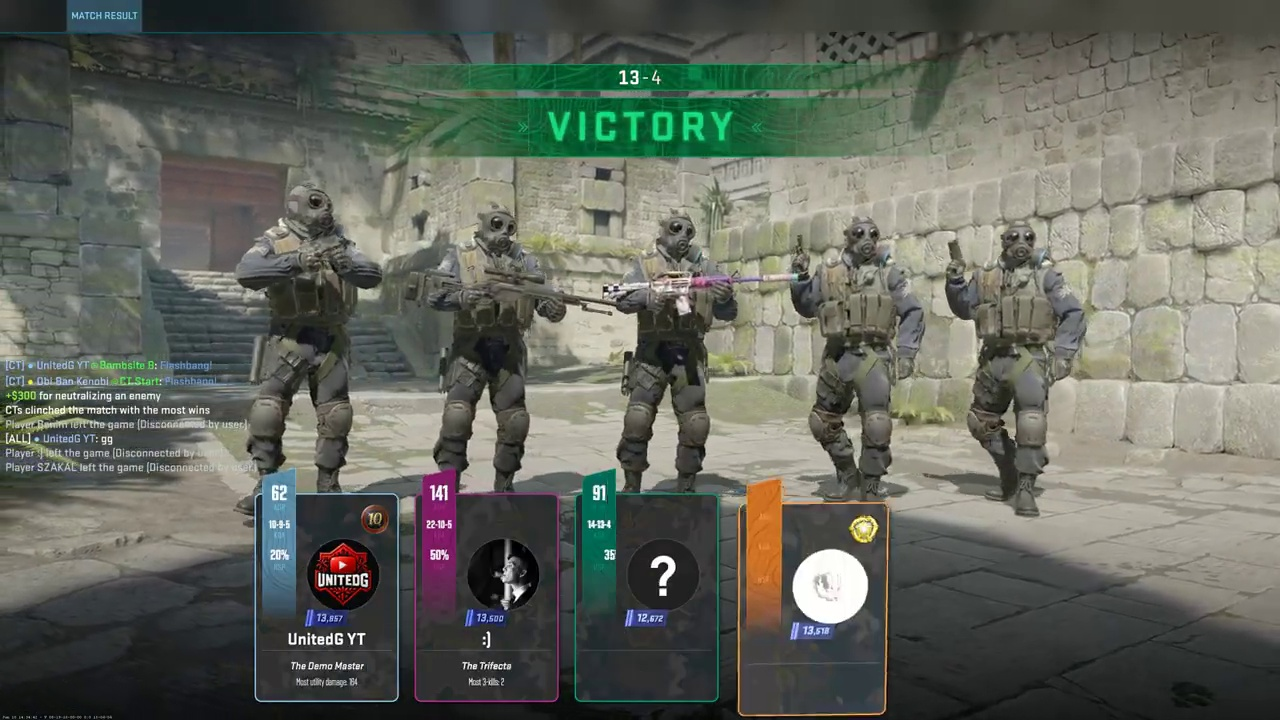CT: (793, 215, 917, 505), (249, 182, 363, 496), (433, 204, 547, 493), (958, 225, 1072, 514), (616, 211, 723, 493)
